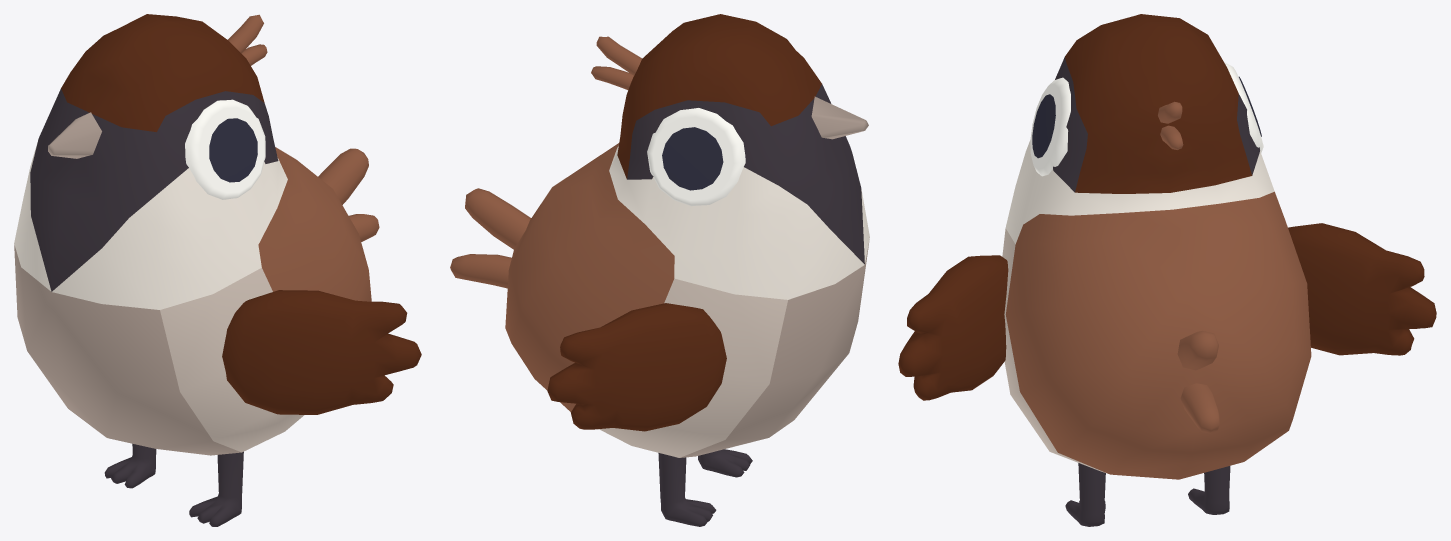
Rendered from bird.glb.
3 views of the same model, side by side, from view 1: azimuth 30°, elevation 25°; view 2: azimuth 150°, elevation 25°; view 3: azimuth 270°, elevation 25° (orthographic). The views are drawn at different scales.
Parts seen in each view (by area): view 1: 39; view 2: 39; view 3: 39.
Part boxes in pixels (x1=…): 39: x1=14, y1=14, x2=421, y2=526; 39: x1=450, y1=14, x2=869, y2=526; 39: x1=898, y1=14, x2=1436, y2=526.
Size of the model in its own units: 1.39 by 1.68 by 1.7.
1 material, 1 textured.
